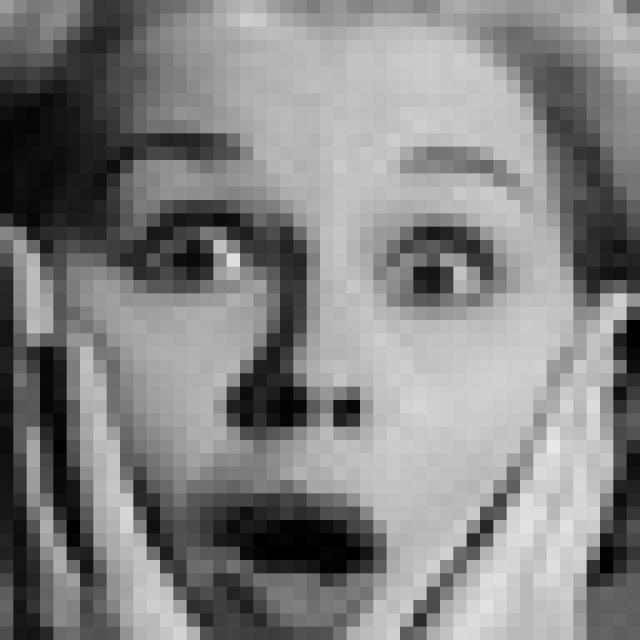surprise: (86, 127, 539, 640)
